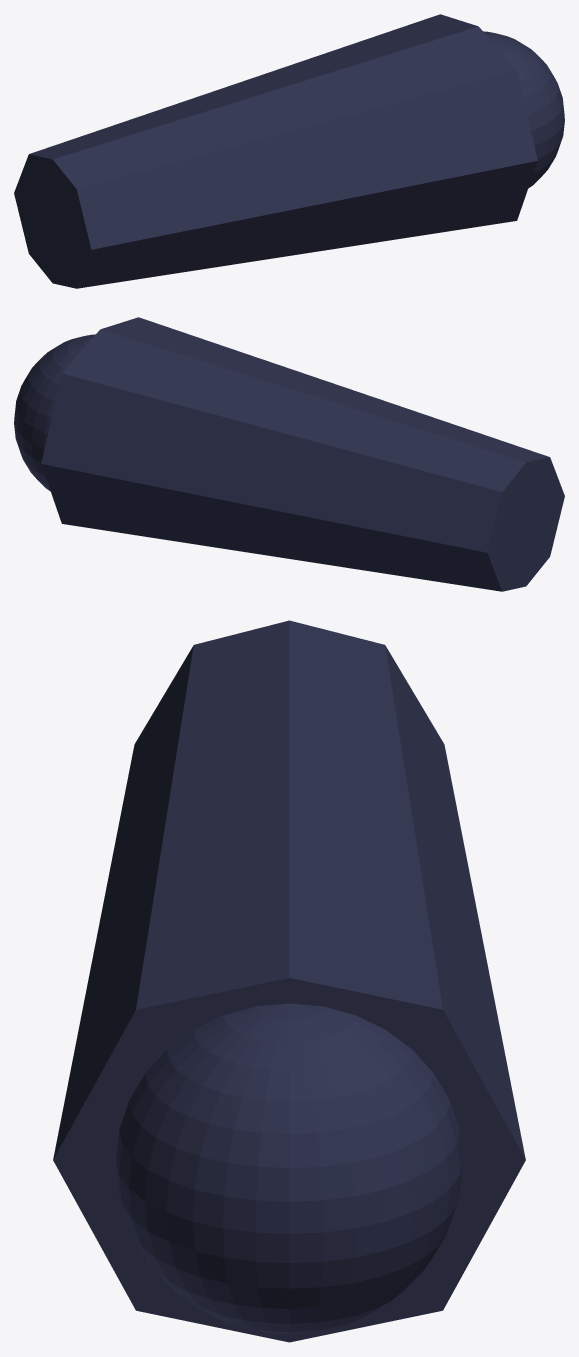
File: R_arm1.obj
3 views of the same model, one above another, from view 1: azimuth 30°, elevation 25°; view 2: azimuth 150°, elevation 25°; view 3: azimuth 270°, elevation 25° (orthographic). The views are drawn at different scales.
Parts seen in each view (by area): view 1: arm1球.001_球.017; view 2: arm1球.001_球.017; view 3: arm1球.001_球.017.
Boxes of the visible parts, x1,y1,x2,y2 form: arm1球.001_球.017: (14,14,564,288); arm1球.001_球.017: (14,317,564,591); arm1球.001_球.017: (53,620,525,1342).
Size of the model in its own units: 4.65 by 1.62 by 1.9.
Materials: 1 (1 with a texture image).
